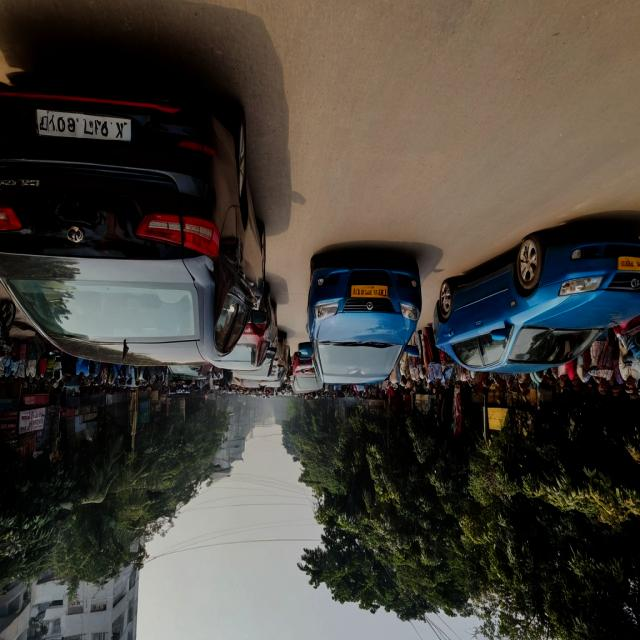black: (0, 70, 269, 367)
blue: (437, 228, 640, 378), (301, 248, 421, 377)
